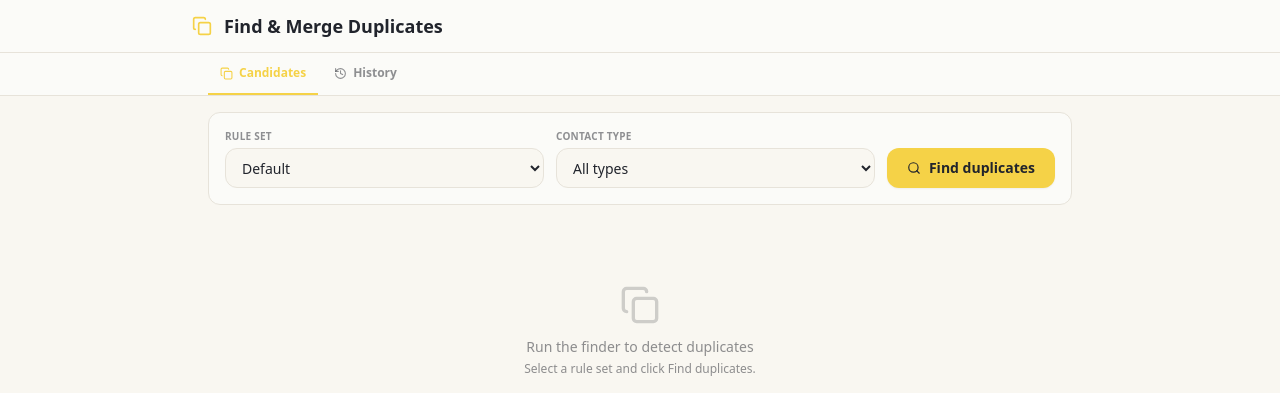
it: DuplicatesPage › renders candidate list with score badge and matched-field chips
Click the button "Find duplicates".
click(971, 168)  # box [887, 148, 1055, 188]
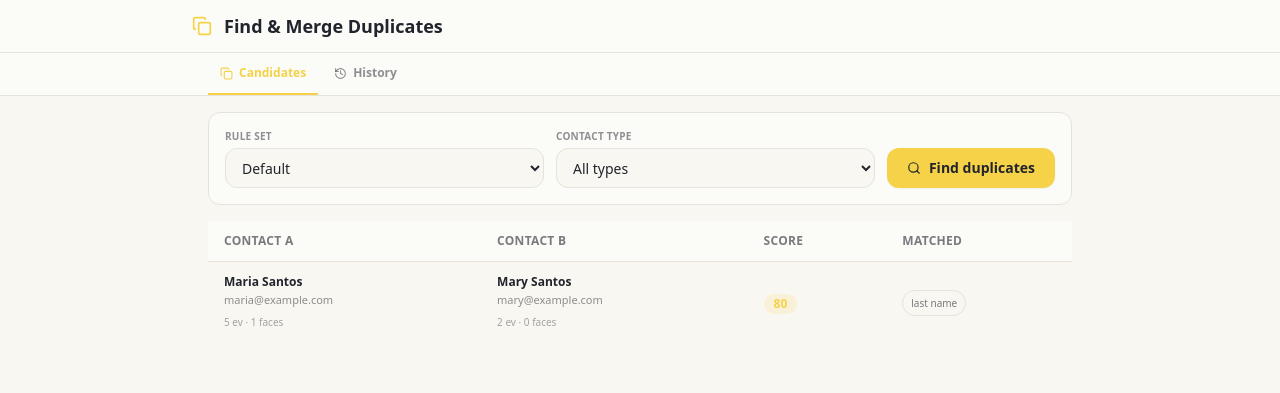
Now the text "Maria Santos" is shown, box [224, 273, 302, 290]
Now the text "80" is shown, box [764, 294, 797, 314]
Now the text "last name" is shown, box [902, 290, 966, 316]
